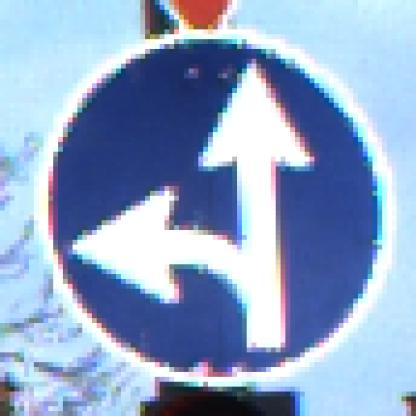Straight or Left: (35, 35, 383, 383)
